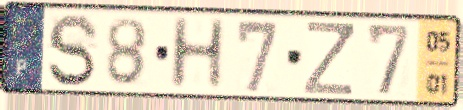7: (364, 22, 414, 98), (234, 17, 282, 95)
8: (102, 16, 151, 88)
H: (166, 14, 229, 92)
S: (45, 11, 101, 90)
Z: (301, 19, 356, 97)
